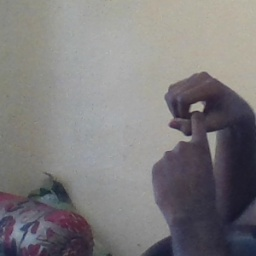Q: (149, 69, 246, 201)
